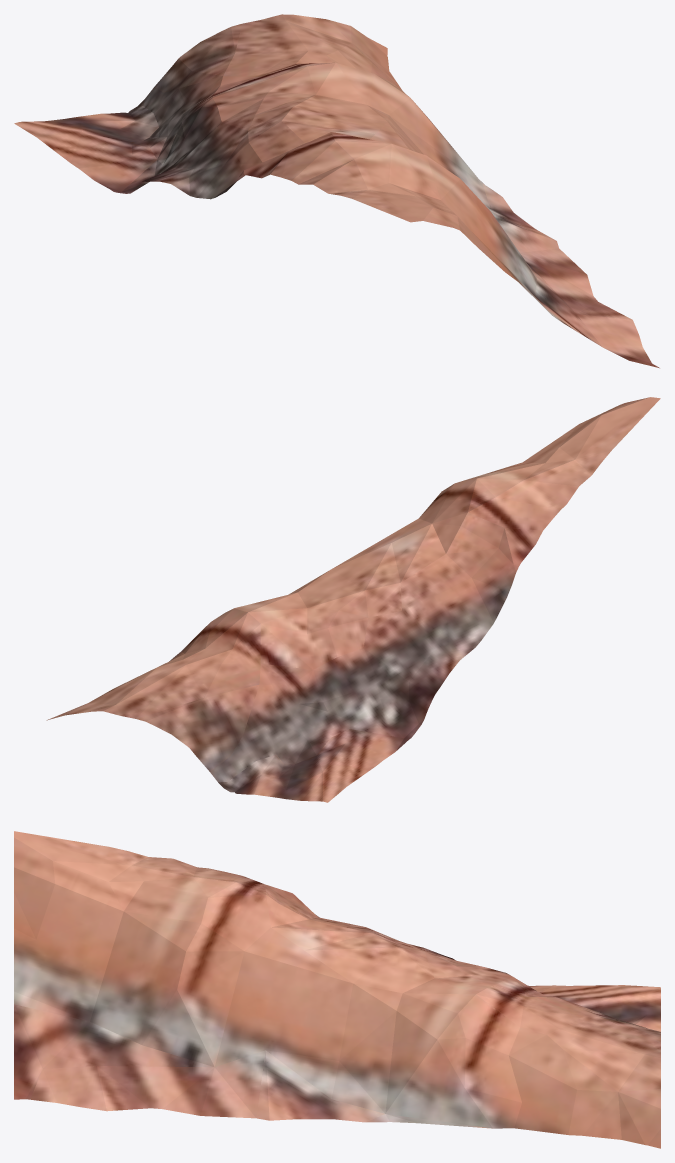
The picture shows the model from 3 angles, top to bottom: view 1: azimuth 30°, elevation 25°; view 2: azimuth 150°, elevation 25°; view 3: azimuth 270°, elevation 25°; orthographic projection. The views are drawn at different scales.
Bounding box in the file's own units: 0.4555 × 0.2413 × 0.8374.
Materials: 2 (2 with a texture image).
